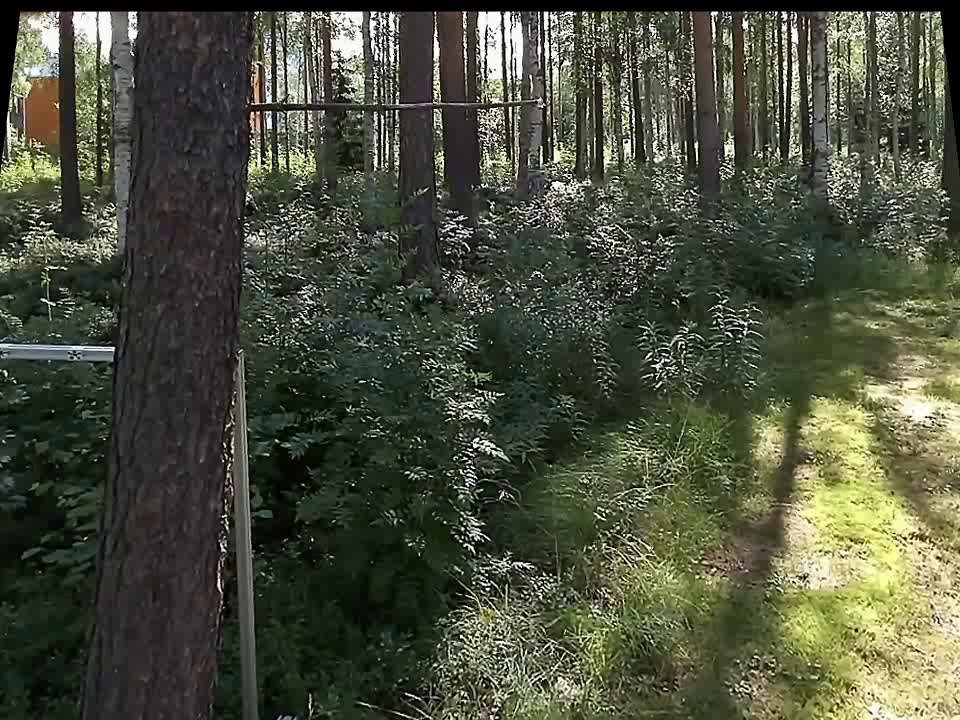aluminum_frame: (222, 345, 259, 717), (1, 338, 116, 369)
branch: (254, 83, 527, 124)
